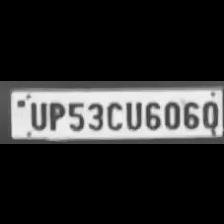0: (162, 97, 180, 128), (200, 97, 218, 127)
3: (85, 98, 103, 130)
5: (65, 98, 85, 130)
6: (142, 97, 160, 129), (181, 97, 199, 128)
C: (104, 98, 122, 130)
P: (46, 98, 64, 130)
U: (25, 98, 47, 130), (124, 97, 142, 129)
